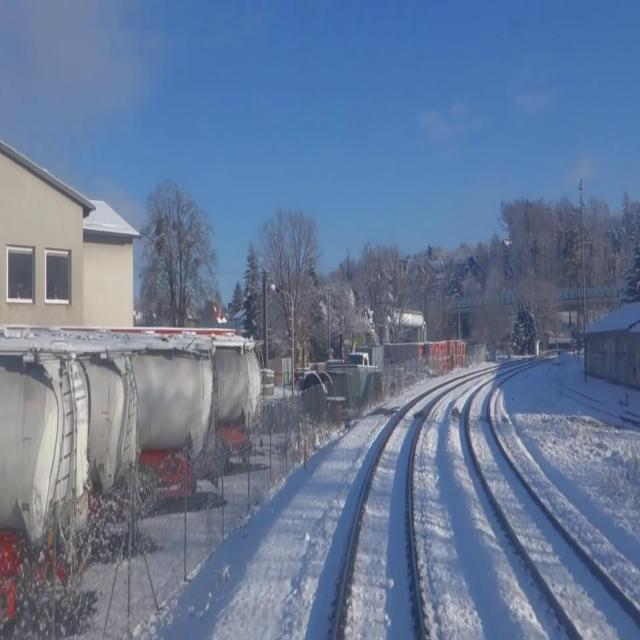rail-track: (469, 377, 640, 639), (336, 387, 447, 639)
